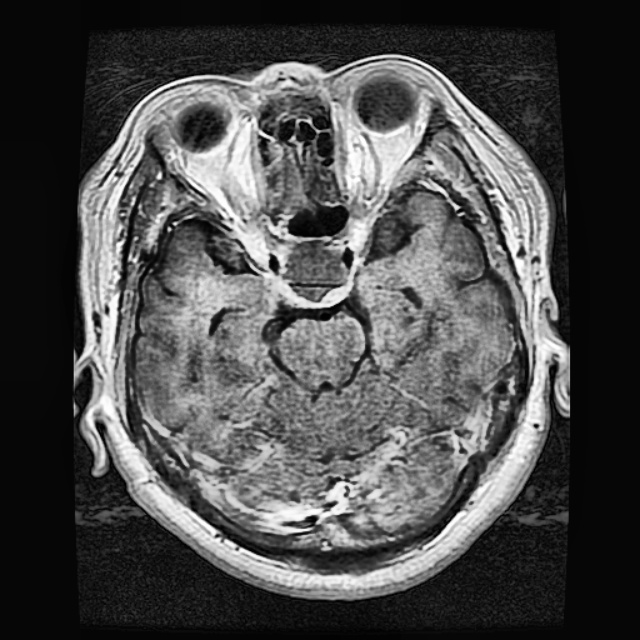Pituitary: (278, 234, 350, 307)
